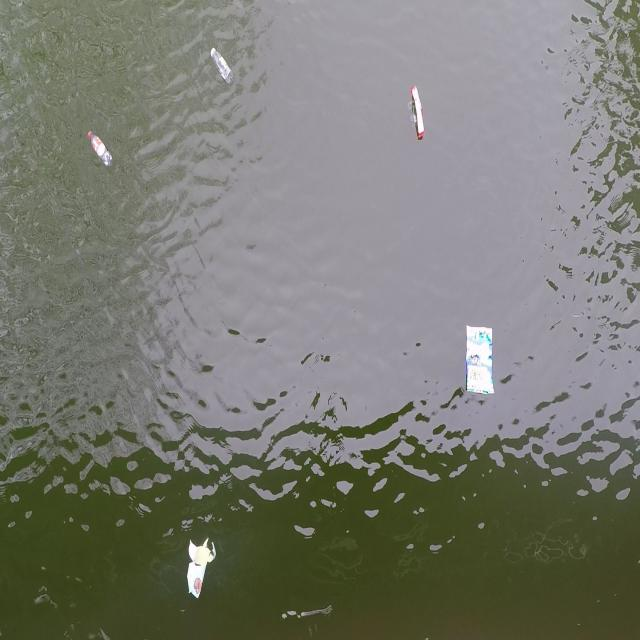Autre plastique: (462, 320, 500, 400)
Bouteille plastique: (208, 41, 238, 88), (85, 128, 114, 173)
